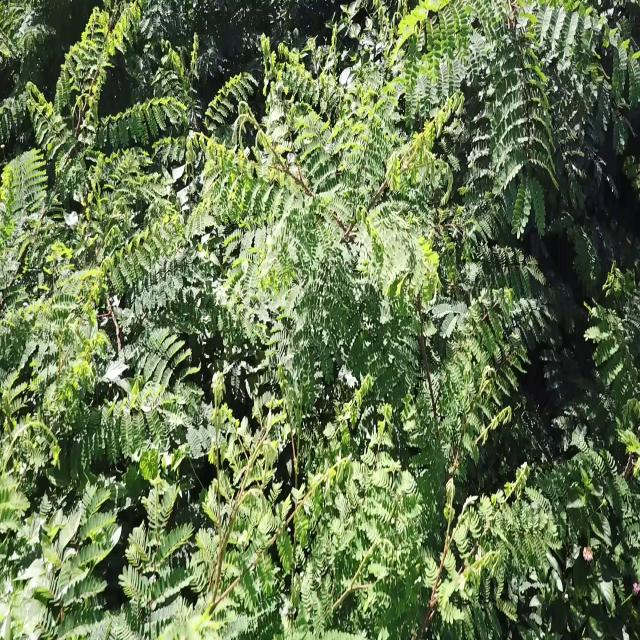Mysore-Thorn-Weed: (192, 40, 452, 334), (388, 0, 640, 243), (409, 284, 564, 640), (0, 5, 186, 272), (202, 384, 352, 640), (0, 278, 181, 478), (573, 266, 637, 553), (0, 489, 115, 640), (120, 484, 188, 640)
